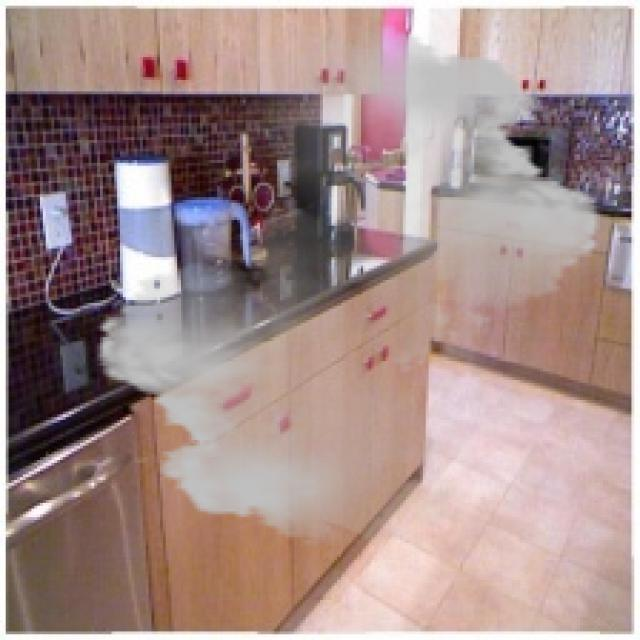Smoke: (80, 26, 617, 546)
